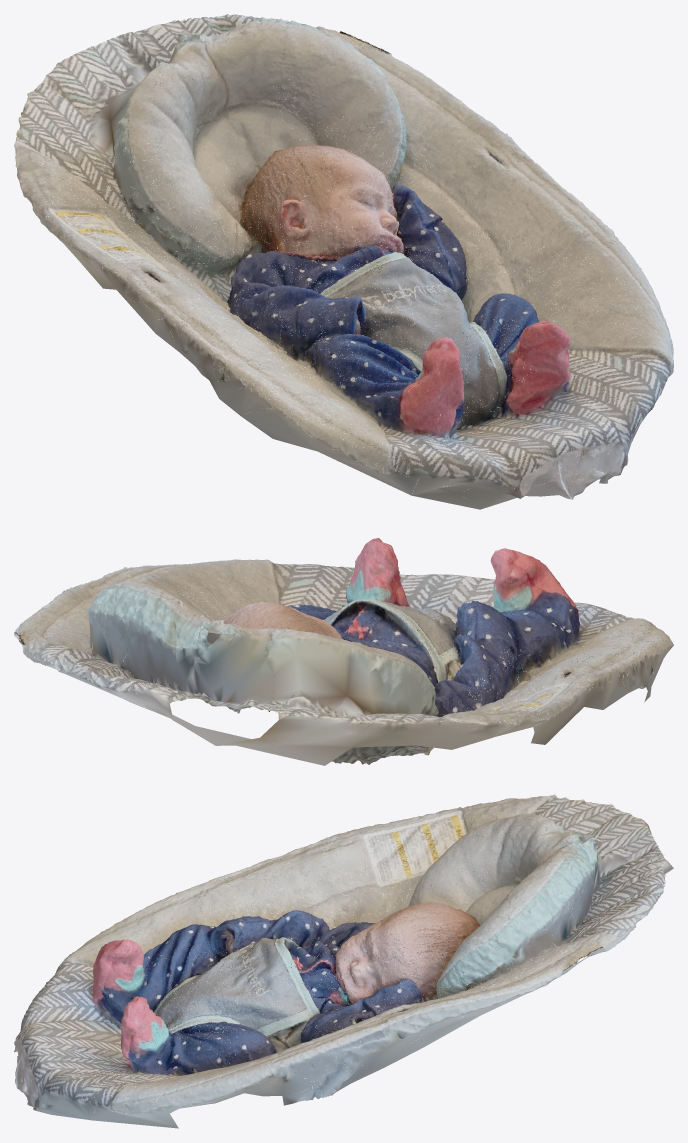
File: baby_memory_scan-transformed.glb
3 renders of one model, top to bottom at view 1: azimuth 30°, elevation 25°; view 2: azimuth 150°, elevation 25°; view 3: azimuth 270°, elevation 25°, orthographic. The views are drawn at different scales.
Visible parts, largest first — view 1: Geode; view 2: Geode; view 3: Geode.
Boxes of the visible parts, box(x1,y1,x2,y2) form: Geode: box(14, 14, 673, 509); Geode: box(14, 538, 673, 765); Geode: box(14, 794, 673, 1128).
Size of the model in its own units: 0.4375 by 0.2348 by 0.5829.
